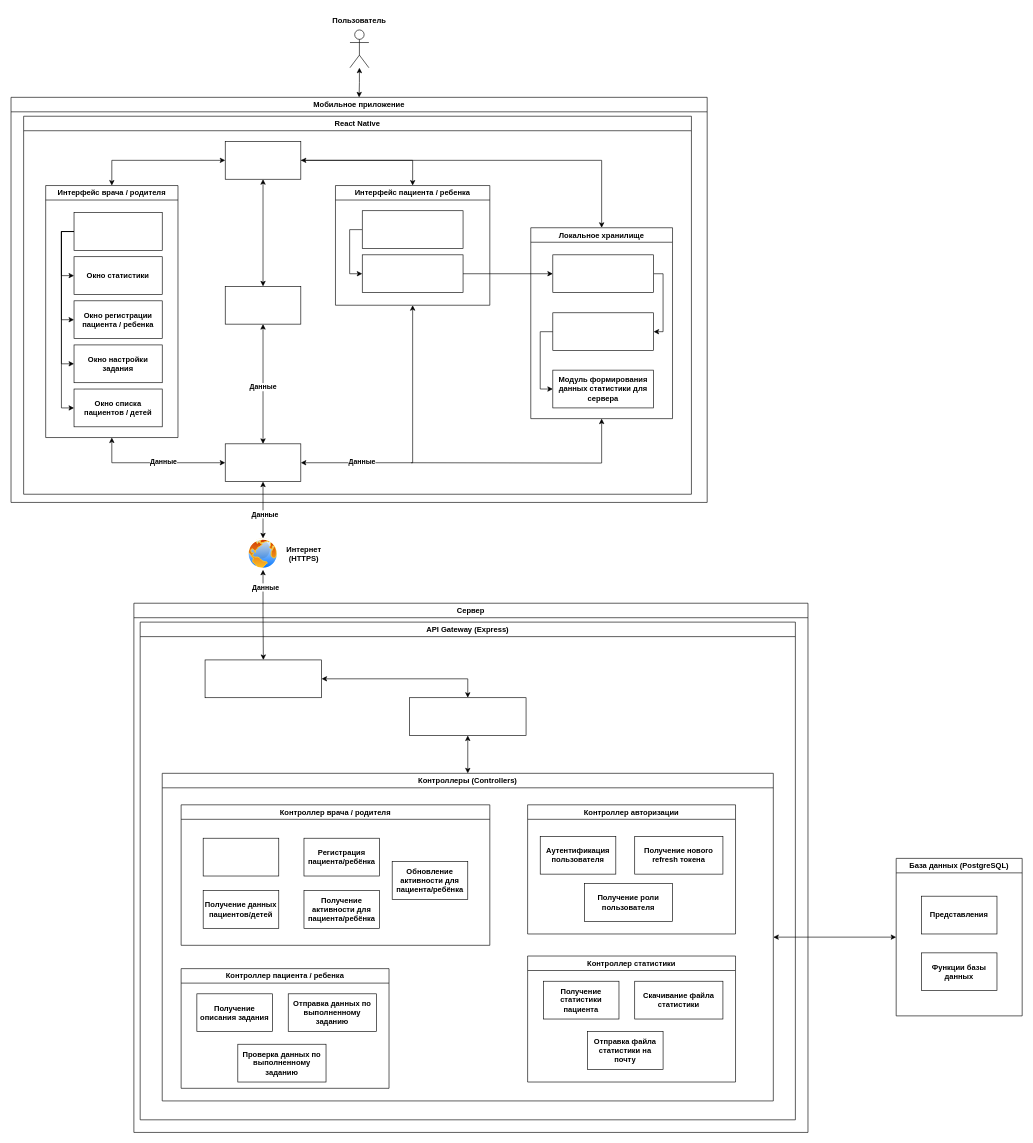
The diagram is 1033 pixels wide and 1143 high, and some of its shapes have lost their labels. The centre of each missing label's shape, as x and y in pixels:
"Маршруты (Routes)" belongs at point (263, 678).
"Модуль API-клиента (RESTful запросы)" belongs at point (263, 462).
"Модуль авторизации" belongs at point (263, 305).
"Модуль кеширования данных" belongs at point (603, 331).
"Модуль сбора нажатий" belongs at point (603, 273).
"Модуль управления пациентами" belongs at point (117, 231).
"Обработчик событий" belongs at point (263, 160).
"Окно предоставления информации о задании" belongs at point (412, 229).
"Окно с кнопкой для выполнения задания" belongs at point (412, 273).
"Получение своих данных" belongs at point (241, 857).
"Связующее программное обеспечение (middlewares)" belongs at point (467, 716).
